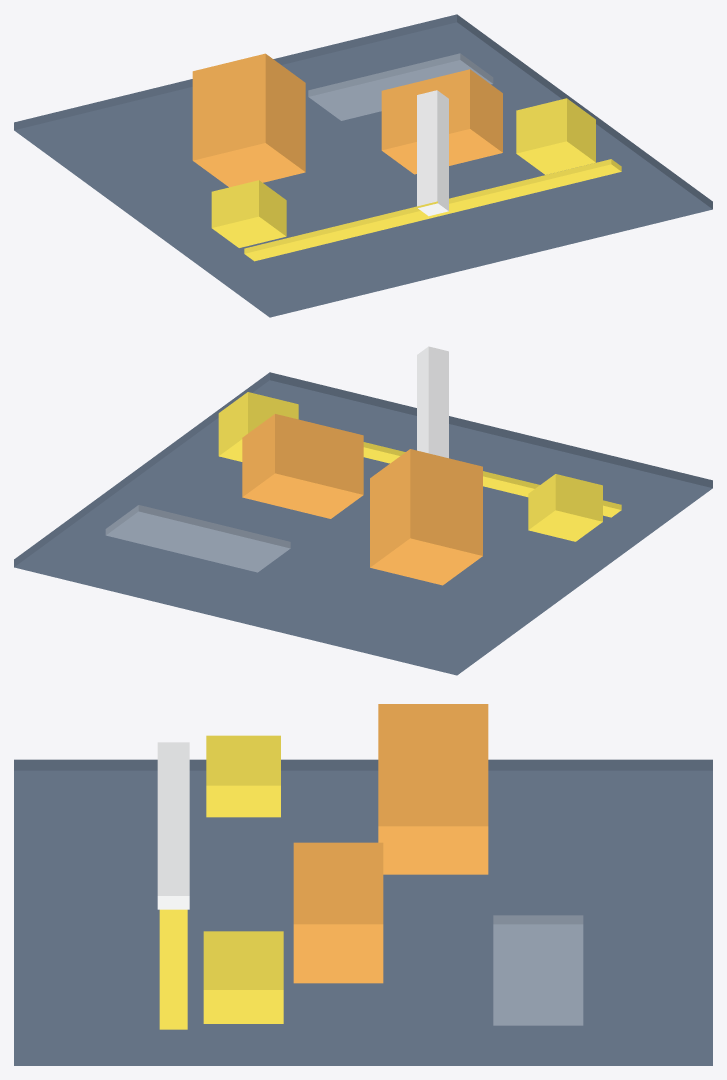
Rendered from workforce-site.glb.
3 renders of one model, top to bottom at view 1: azimuth 30°, elevation 25°; view 2: azimuth 150°, elevation 25°; view 3: azimuth 270°, elevation 25°, orthographic. The views are drawn at different scales.
Parts seen in each view (by area): view 1: environment floor, main structure, secondary structure, route layer, context block b, environment plane, context block a, observation marker; view 2: environment floor, main structure, secondary structure, environment plane, context block a, observation marker, context block b, route layer; view 3: environment floor, main structure, secondary structure, environment plane, context block b, context block a, observation marker, route layer.
Part boxes in pixels (left/top/right/bottom): environment floor: left=14, top=14, right=712, bottom=317; main structure: left=192, top=53, right=305, bottom=187; secondary structure: left=381, top=69, right=502, bottom=174; route layer: left=244, top=159, right=621, bottom=261; context block b: left=516, top=98, right=595, bottom=174; environment plane: left=308, top=53, right=493, bottom=120; context block a: left=211, top=180, right=286, bottom=247; observation marker: left=417, top=90, right=448, bottom=216; environment floor: left=14, top=372, right=712, bottom=675; main structure: left=370, top=449, right=482, bottom=585; secondary structure: left=242, top=414, right=363, bottom=518; environment plane: left=105, top=505, right=290, bottom=572; context block a: left=528, top=474, right=602, bottom=541; observation marker: left=417, top=346, right=448, bottom=458; context block b: left=218, top=392, right=298, bottom=461; route layer: left=363, top=442, right=621, bottom=517; environment floor: left=14, top=759, right=712, bottom=1065; main structure: left=378, top=704, right=488, bottom=874; secondary structure: left=293, top=842, right=383, bottom=983; environment plane: left=493, top=915, right=583, bottom=1025; context block b: left=203, top=931, right=283, bottom=1023; context block a: left=206, top=735, right=280, bottom=817; observation marker: left=157, top=742, right=189, bottom=909; route layer: left=159, top=909, right=187, bottom=1029.
Size of the model in its own units: 7 by 1.87 by 7.
